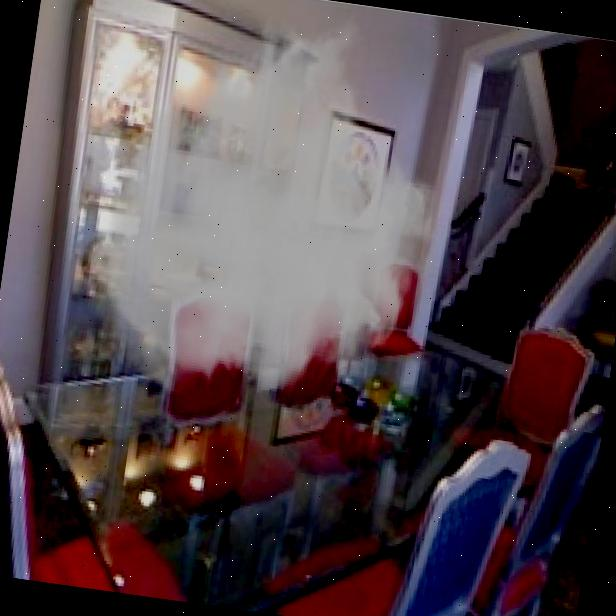smoke: (70, 0, 466, 430)
